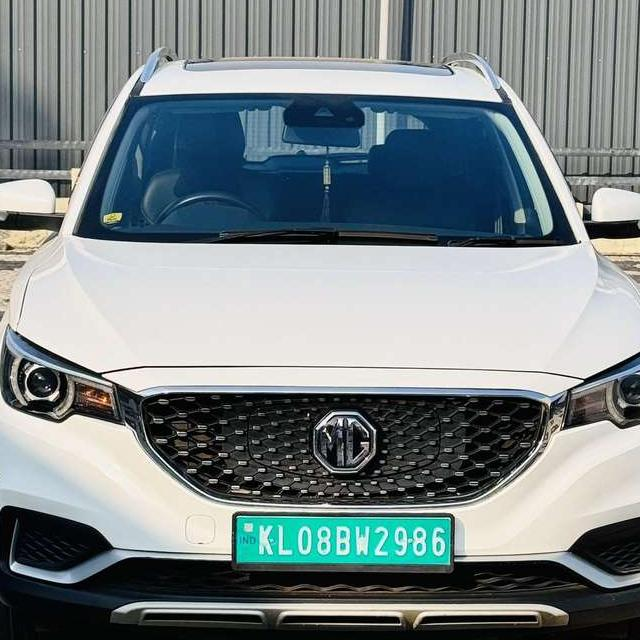Indian_Number_Plate: (233, 513, 455, 570)
